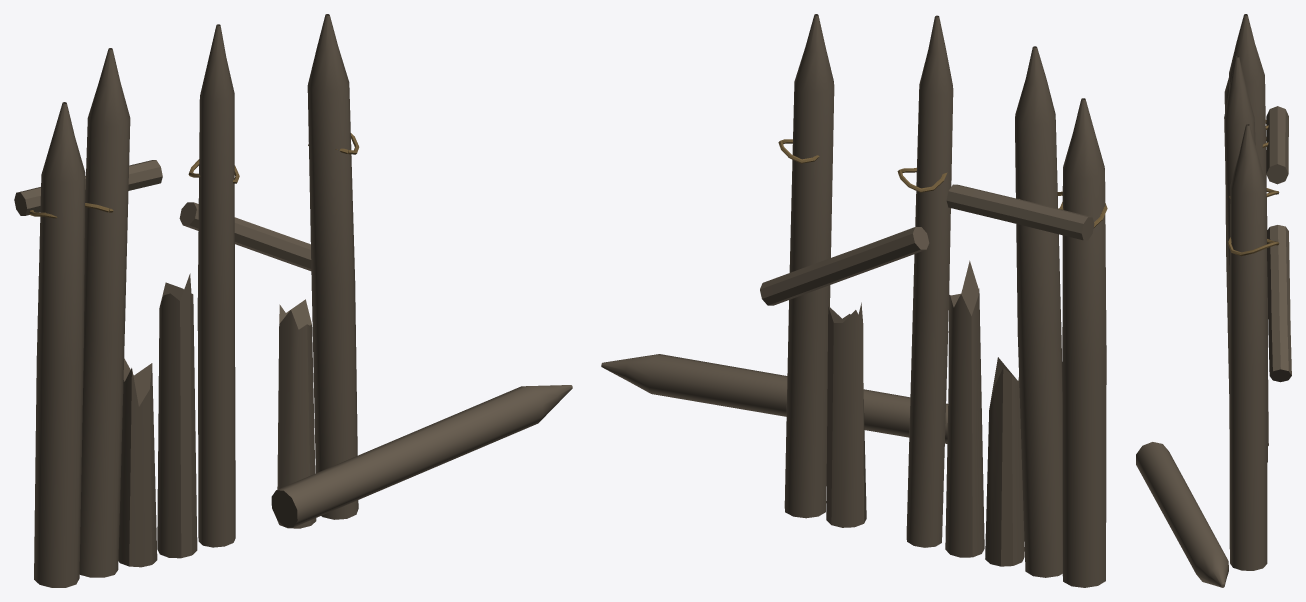
Rendered from palisade_kaputt.glb.
The picture shows the model from 3 angles, left to right: view 1: azimuth 30°, elevation 25°; view 2: azimuth 150°, elevation 25°; view 3: azimuth 270°, elevation 25°; orthographic projection. The views are drawn at different scales.
Visible parts, largest first — view 1: palisade_kaputt; view 2: palisade_kaputt; view 3: palisade_kaputt.
Part boxes in pixels (x1,y1,x2,y2): palisade_kaputt: (14,14,572,587); palisade_kaputt: (601,14,1107,587); palisade_kaputt: (1136,14,1291,587).
Bounding box in the file's own units: 3.27 × 3.13 × 0.9725.
